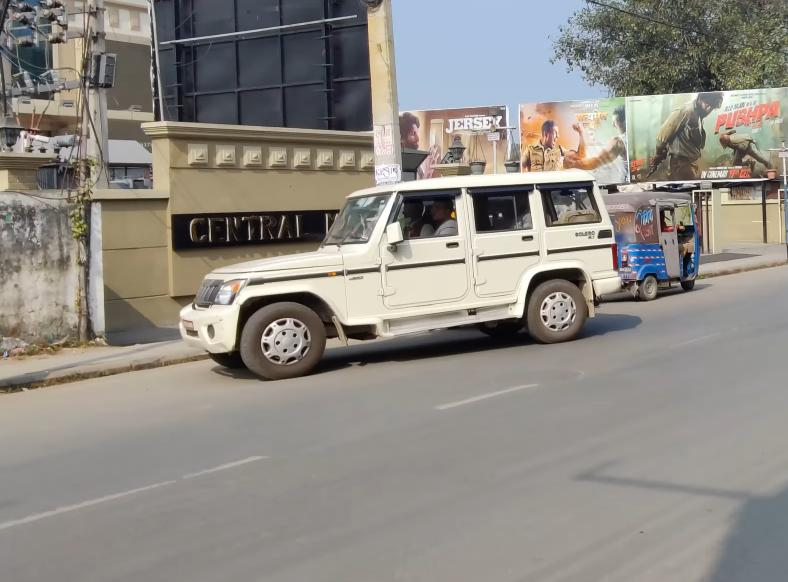SUV: (177, 158, 621, 388)
auto_rickshaw: (600, 187, 707, 300)
